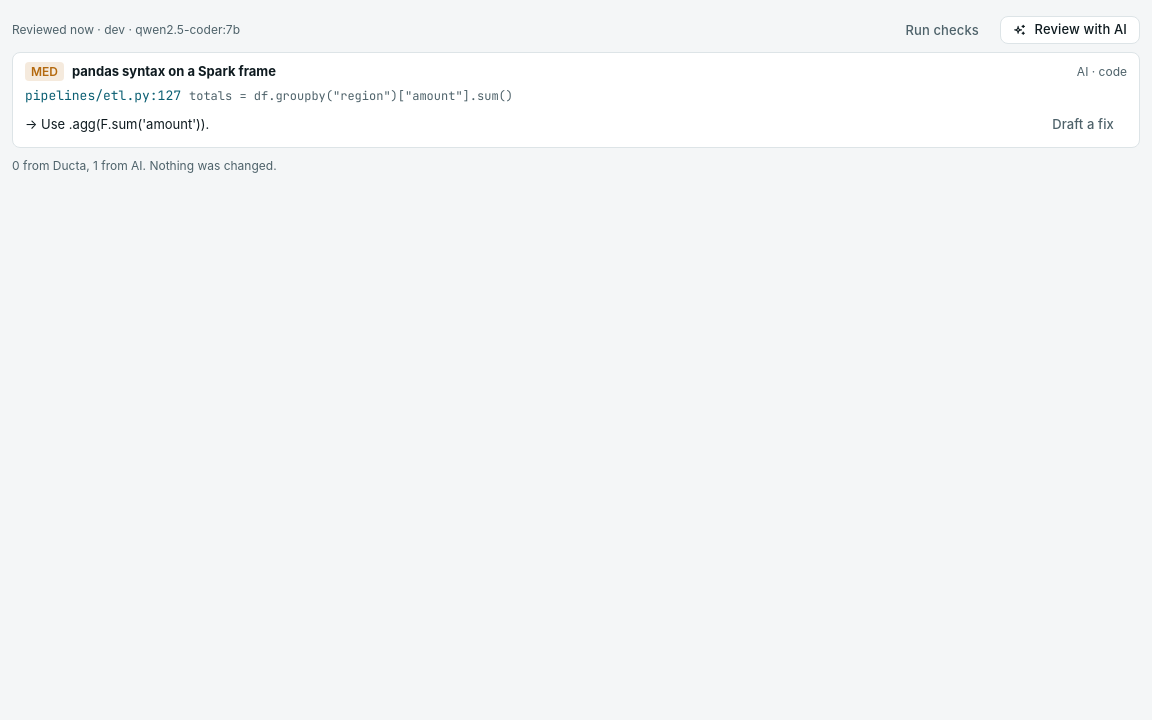
NodeReview › turns a finding into a fix draft with the finding as its note
The image size is (1152, 720).
Click the button "Draft a fix": click(1083, 125) [1039, 111, 1127, 139]
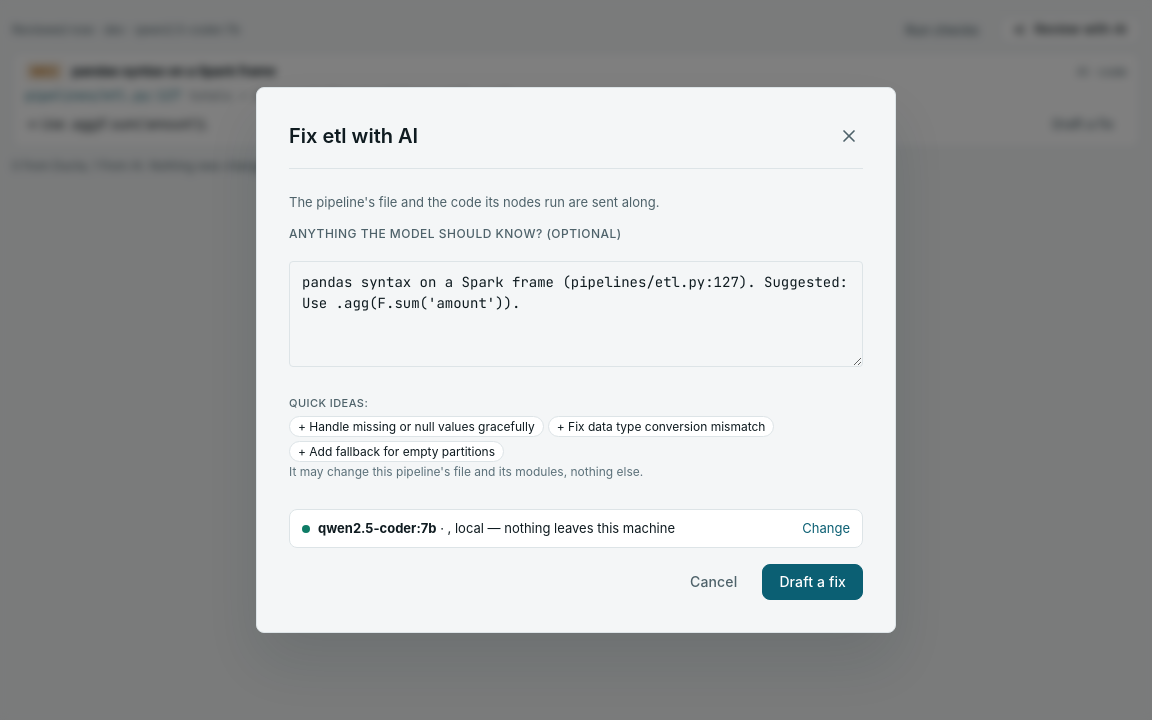
Check: the heading "Fix etl with AI" is shown, box [289, 120, 418, 152]
Check: the text box labelled "Anything the model should know? (optional)" holds "pandas syntax on a Spark frame (pipelines/etl.py:127). Suggested: Use .agg(F.sum('amount')).", box [289, 260, 863, 366]
